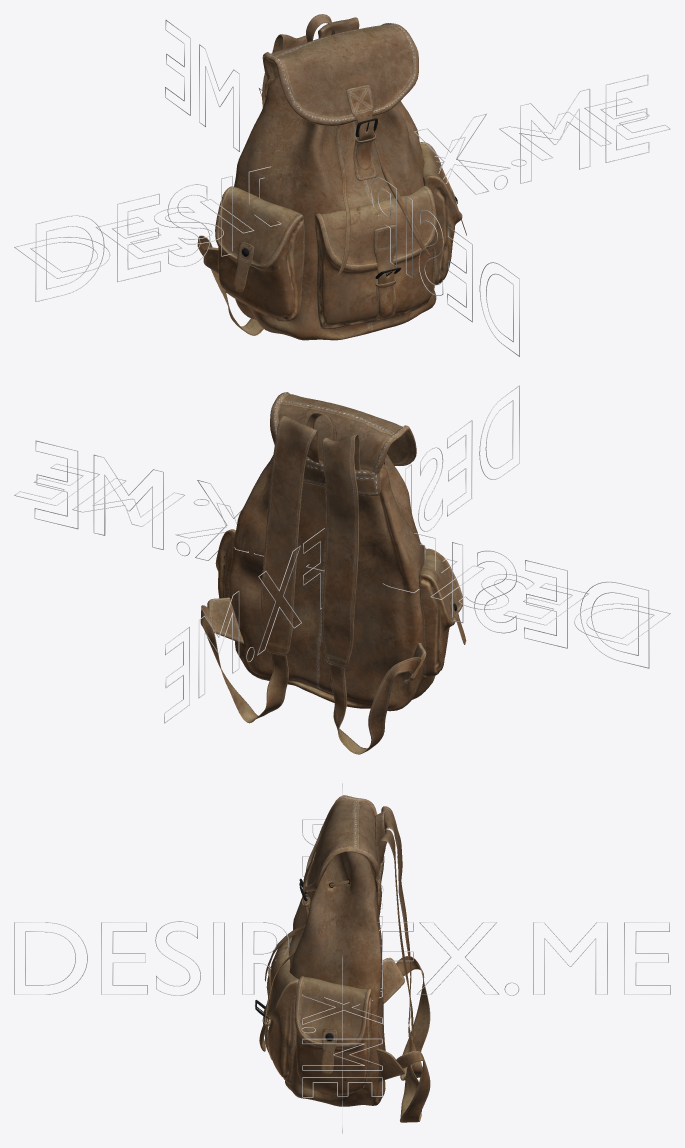
File: Leather Backpack Low-poly 3D model.fbx
The picture shows the model from 3 angles, top to bottom: view 1: azimuth 30°, elevation 25°; view 2: azimuth 150°, elevation 25°; view 3: azimuth 270°, elevation 25°; orthographic projection. The views are drawn at different scales.
Parts seen in each view (by area): view 1: desirefx_me_1, Text.001, Text.004, Text.003; view 2: desirefx_me_1, Text.001, Text.003, Text.004; view 3: desirefx_me_1, Text.003, Text.004.
Part boxes in pixels (<box>): desirefx_me_1: <box>197,14,466,340</box>; Text.001: <box>35,74,649,301</box>; Text.004: <box>14,97,670,278</box>; Text.003: <box>165,20,519,356</box>; desirefx_me_1: <box>200,392,466,754</box>; Text.001: <box>34,440,649,668</box>; Text.003: <box>164,385,519,723</box>; Text.004: <box>14,463,670,645</box>; desirefx_me_1: <box>255,795,430,1122</box>; Text.003: <box>14,921,670,995</box>; Text.004: <box>301,819,383,1097</box>.
Size of the model in its own units: 2039 by 1000 by 2039.
Materials: 1 (1 with a texture image).
